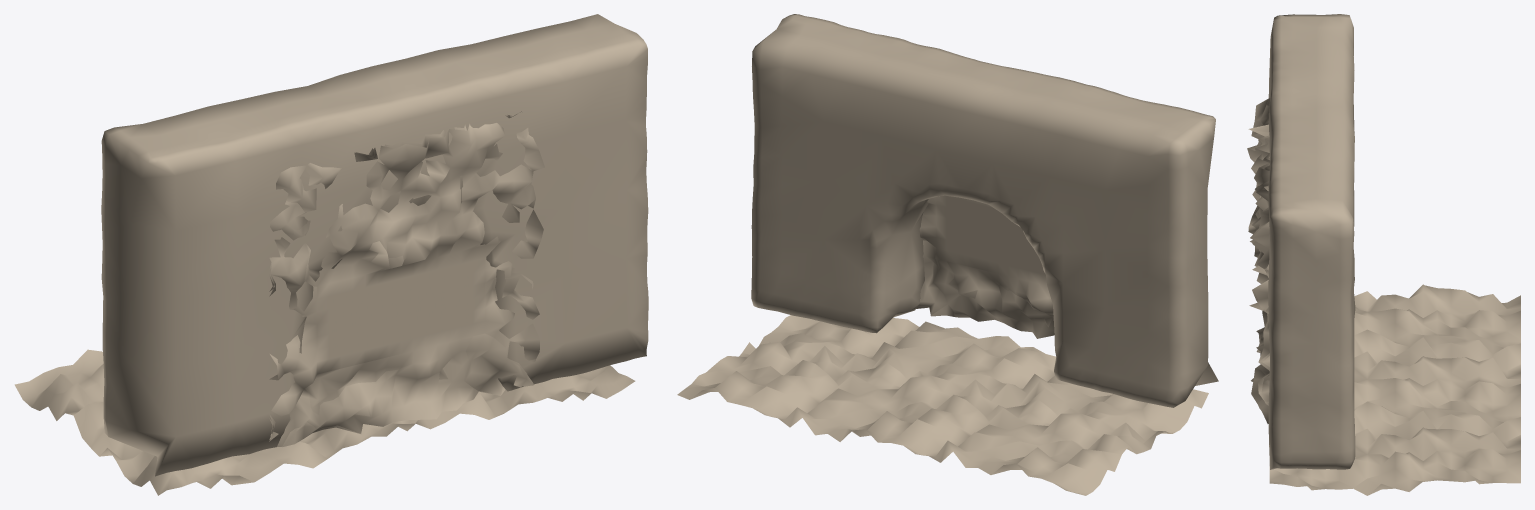
Rendered from prehistoric.glb.
The picture shows the model from 3 angles, left to right: view 1: azimuth 30°, elevation 25°; view 2: azimuth 150°, elevation 25°; view 3: azimuth 270°, elevation 25°; orthographic projection. The views are drawn at different scales.
Visible parts, largest first — view 1: Arch_mesh, WallA_mesh, Ceil_mesh, WallB_mesh; view 2: Arch_mesh, Ceil_mesh, WallA_mesh, WallB_mesh; view 3: Arch_mesh, Ceil_mesh, WallA_mesh, WallB_mesh.
Boxes of the visible parts, x1=… form: Arch_mesh: x1=101, y1=14, x2=648, y2=476; WallA_mesh: x1=269, y1=111, x2=544, y2=446; Ceil_mesh: x1=14, y1=349, x2=635, y2=495; WallB_mesh: x1=269, y1=115, x2=535, y2=446; Arch_mesh: x1=751, y1=14, x2=1218, y2=407; Ceil_mesh: x1=677, y1=315, x2=1208, y2=495; WallA_mesh: x1=918, y1=195, x2=1054, y2=345; WallB_mesh: x1=916, y1=197, x2=1054, y2=338; Arch_mesh: x1=1268, y1=14, x2=1355, y2=469; Ceil_mesh: x1=1269, y1=284, x2=1520, y2=495; WallA_mesh: x1=1247, y1=98, x2=1269, y2=411; WallB_mesh: x1=1248, y1=100, x2=1270, y2=423.
Size of the model in its own units: 8.66 by 5.73 by 4.91.
